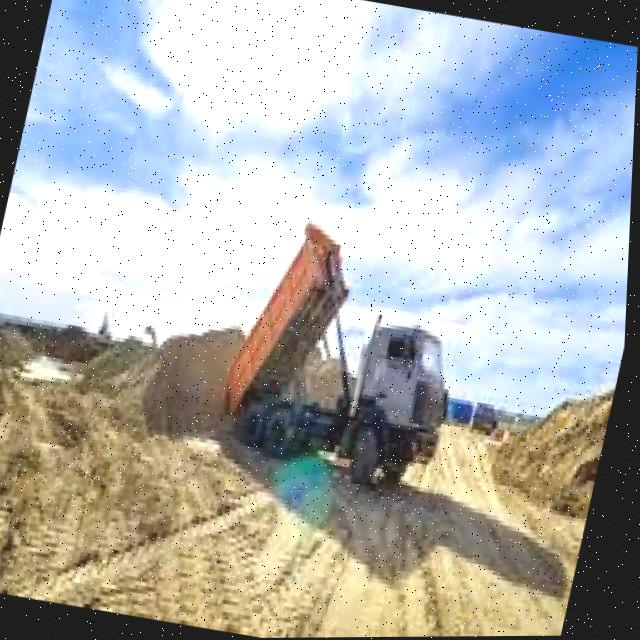truck: (214, 221, 485, 501)
